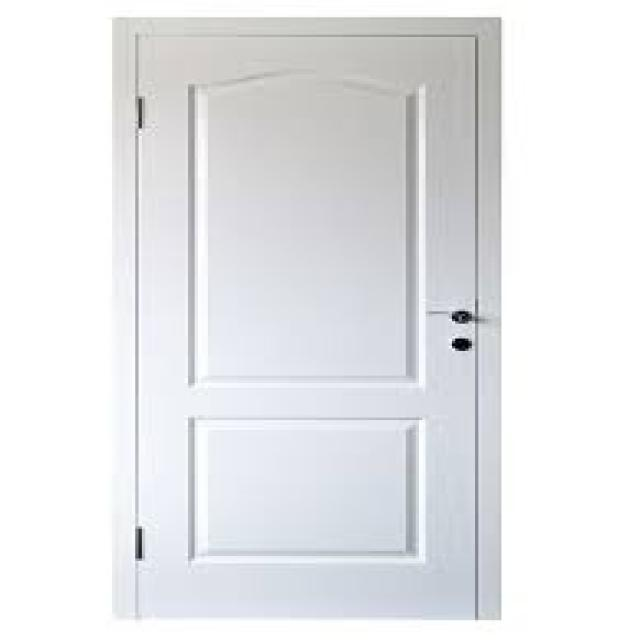door: (117, 18, 500, 620)
